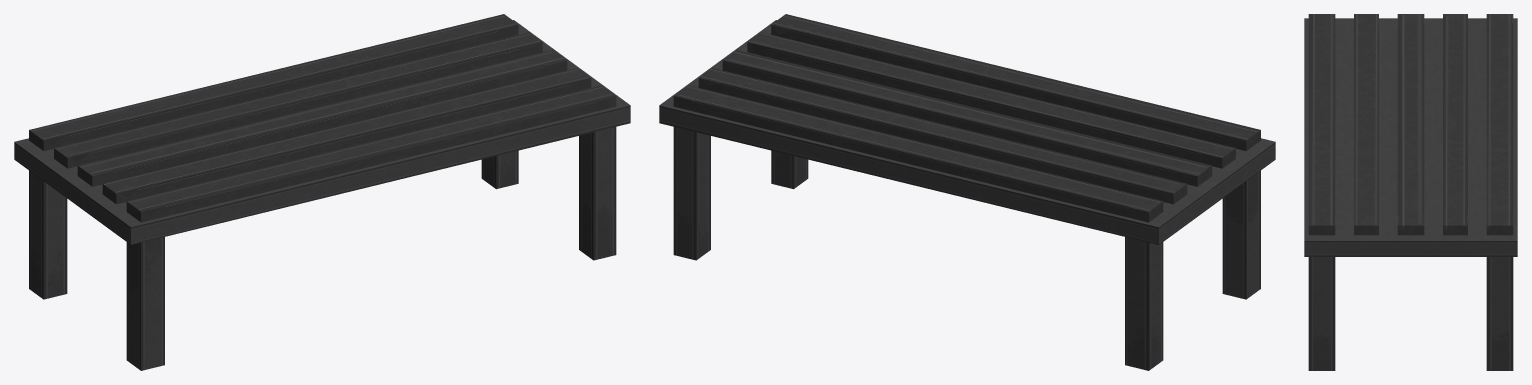
Rendered from Bench.fbx.
3 views of the same model, side by side, from view 1: azimuth 30°, elevation 25°; view 2: azimuth 150°, elevation 25°; view 3: azimuth 270°, elevation 25° (orthographic). The views are drawn at different scales.
Parts seen in each view (by area): view 1: Bench; view 2: Bench; view 3: Bench.
Part boxes in pixels (<box>): Bench: <box>14,14,630,370</box>; Bench: <box>659,14,1275,370</box>; Bench: <box>1304,14,1517,370</box>.
Bounding box in the file's own units: 197 × 60.04 × 80.
